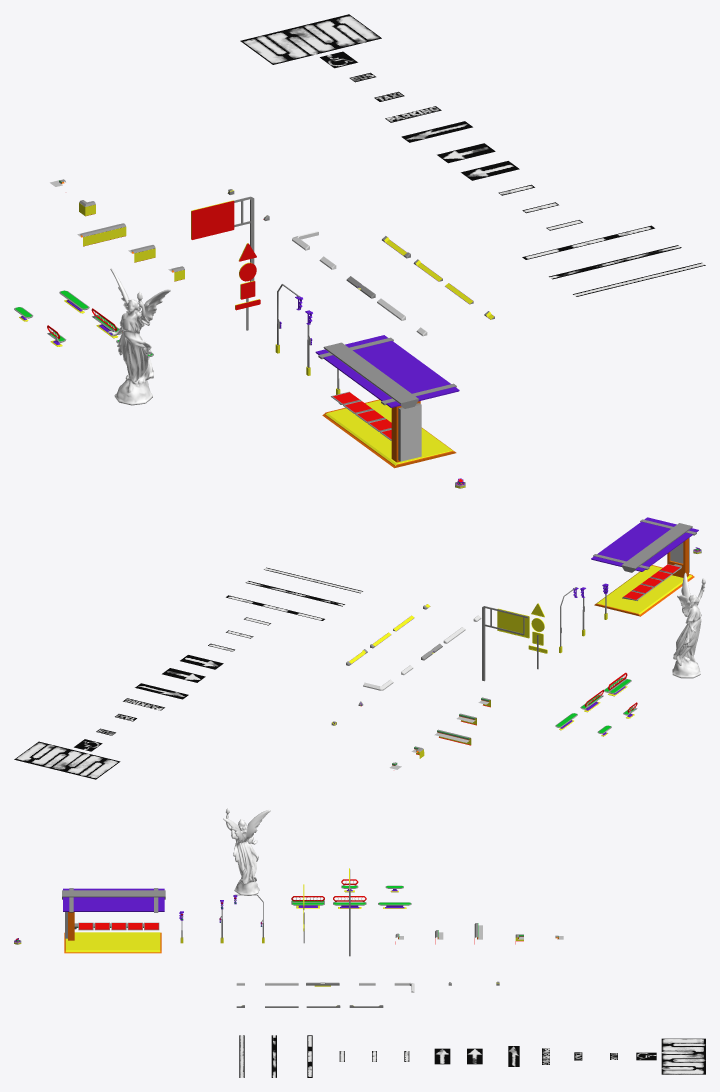
The model's file is StreetDeco01.fbx.
3 renders of one model, top to bottom at view 1: azimuth 30°, elevation 25°; view 2: azimuth 150°, elevation 25°; view 3: azimuth 270°, elevation 25°, orthographic. The views are drawn at different scales.
Parts seen in each view (by area): view 1: Box047, Plane001, lucy, Sign005; view 2: Box047, Plane001, lucy, Sign005, Box041; view 3: Box047, lucy, Plane001.
Part boxes in pixels (x1=…): Box047: x1=315, y1=335, x2=459, y2=468; Plane001: x1=240, y1=14, x2=381, y2=64; lucy: x1=107, y1=268, x2=170, y2=405; Sign005: x1=191, y1=200, x2=234, y2=239; Box047: x1=591, y1=517, x2=698, y2=616; Plane001: x1=14, y1=741, x2=120, y2=779; lucy: x1=672, y1=572, x2=705, y2=678; Sign005: x1=497, y1=608, x2=529, y2=638; Box041: x1=482, y1=606, x2=528, y2=681; Box047: x1=62, y1=888, x2=165, y2=953; lucy: x1=223, y1=808, x2=270, y2=895; Plane001: x1=661, y1=1038, x2=705, y2=1074.
Size of the model in its own units: 271 by 53.9 by 412.
